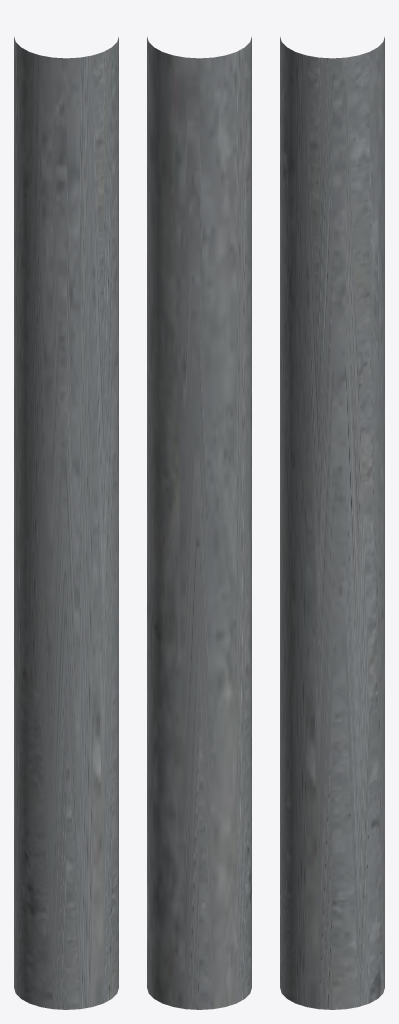
File: modular-pipes-straight-1m.glb
3 views of the same model, side by side, from view 1: azimuth 30°, elevation 25°; view 2: azimuth 150°, elevation 25°; view 3: azimuth 330°, elevation 25° (orthographic).
Parts seen in each view (by area): view 1: modular_pipes_straight_1m; view 2: modular_pipes_straight_1m; view 3: modular_pipes_straight_1m.
Part boxes in pixels (bbox=[...]): modular_pipes_straight_1m: bbox=[14, 37, 118, 1009]; modular_pipes_straight_1m: bbox=[147, 37, 251, 1009]; modular_pipes_straight_1m: bbox=[280, 37, 384, 1009].
Bounding box in the file's own units: 0.1 × 1 × 0.1.
1 material, 1 textured.
